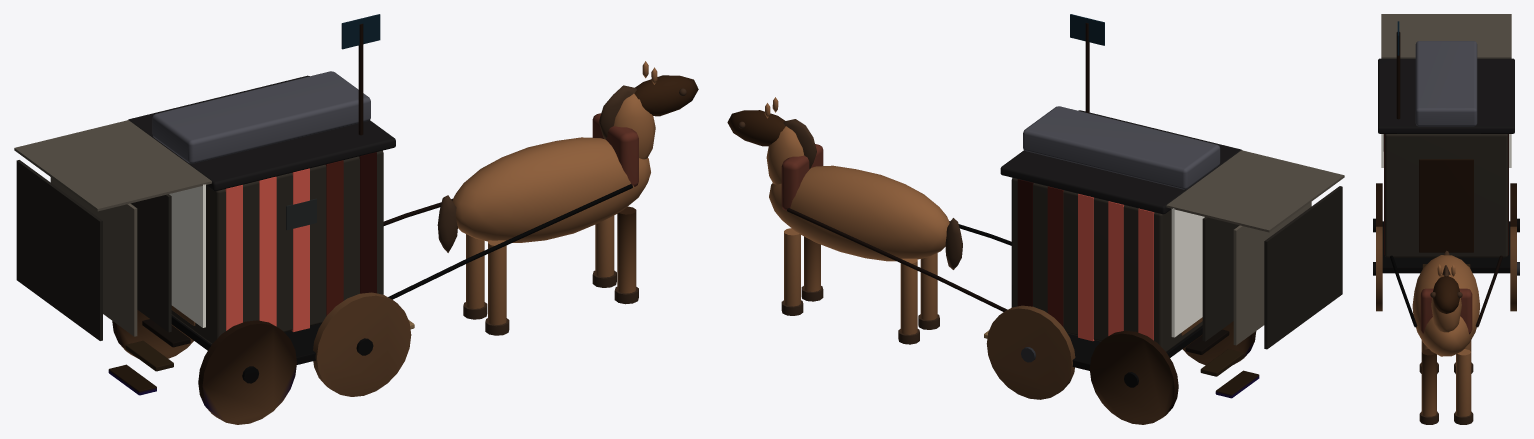
The model's file is machine.glb.
The picture shows the model from 3 angles, left to right: view 1: azimuth 30°, elevation 25°; view 2: azimuth 150°, elevation 25°; view 3: azimuth 270°, elevation 25°; orthographic projection. The views are drawn at different scales.
Parts seen in each view (by area): view 1: machine.roof.2, machine.plank.3, anim-horse-body, machine.plank.0, machine.paint.1, anim-hood-h3, anim-hood-top, anim-hood-h2, anim-hood-h0, anim-hood-h1, machine.plank.4, anim-horse-head (+12 smaller); view 2: machine.roof.2, machine.plank.3, machine.plank.0, anim-horse-body, machine.paint.1, anim-hood-h3, anim-hood-top, anim-hood-h2, anim-hood-h0, anim-hood-h1, machine.plank.4, anim-horse-head (+11 smaller); view 3: machine.roof.2, machine.plank.0, machine.plank.3, anim-hood-top, anim-horse-body, machine.metal.6, anim-leg0, anim-leg1, anim-horse-collar, anim-horse-head, anim-horse-neck, machine.fabric.7 (+4 smaller).
Boxes of the visible parts, x1,y1,x2,y2 form: machine.roof.2: [128, 71, 395, 191]; machine.plank.3: [112, 23, 411, 424]; anim-horse-body: [452, 137, 650, 242]; machine.plank.0: [171, 150, 383, 343]; machine.paint.1: [225, 152, 376, 331]; anim-hood-h3: [16, 160, 102, 340]; anim-hood-top: [14, 120, 211, 211]; anim-hood-h2: [50, 177, 137, 336]; anim-hood-h0: [169, 184, 205, 327]; anim-hood-h1: [130, 194, 171, 332]; machine.plank.4: [108, 319, 414, 395]; anim-horse-head: [634, 75, 698, 116]; machine.roof.2: [1000, 106, 1241, 214]; machine.plank.3: [986, 23, 1256, 424]; machine.plank.0: [1011, 177, 1202, 351]; anim-horse-body: [769, 165, 949, 261]; machine.paint.1: [1017, 179, 1154, 341]; anim-hood-h3: [1264, 186, 1342, 349]; anim-hood-top: [1166, 150, 1344, 232]; anim-hood-h2: [1233, 202, 1311, 345]; anim-hood-h0: [1171, 208, 1204, 337]; anim-hood-h1: [1202, 217, 1239, 341]; machine.plank.4: [984, 329, 1259, 398]; anim-horse-head: [727, 110, 785, 146]; machine.roof.2: [1378, 41, 1514, 133]; machine.plank.0: [1384, 134, 1508, 257]; machine.plank.3: [1376, 32, 1516, 311]; anim-hood-top: [1381, 14, 1511, 58]; anim-horse-body: [1412, 255, 1479, 356]; machine.metal.6: [1373, 218, 1519, 275]; anim-leg0: [1421, 349, 1436, 416]; anim-leg1: [1456, 349, 1471, 416]; anim-horse-collar: [1420, 288, 1472, 334]; anim-horse-head: [1433, 276, 1459, 313]; anim-horse-neck: [1431, 274, 1461, 332]; machine.fabric.7: [1390, 255, 1502, 327].
Bounding box in the file's own units: 8.41 × 4.57 × 2.14.
